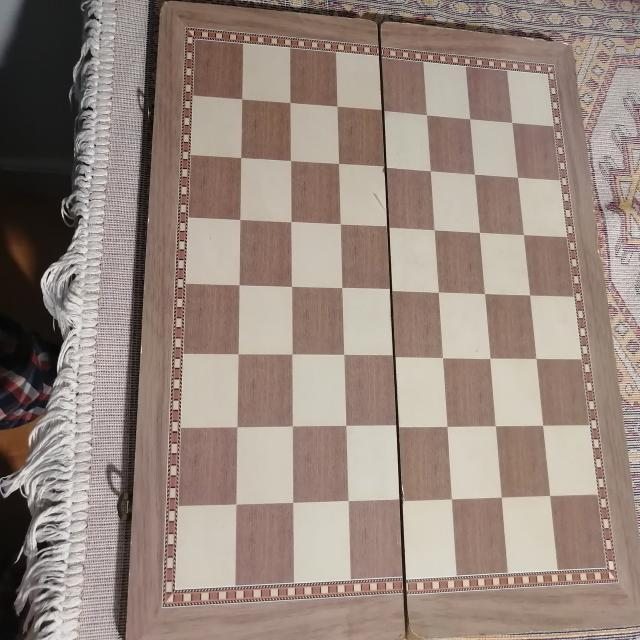corners: (562, 38, 578, 55), (156, 0, 176, 11)
